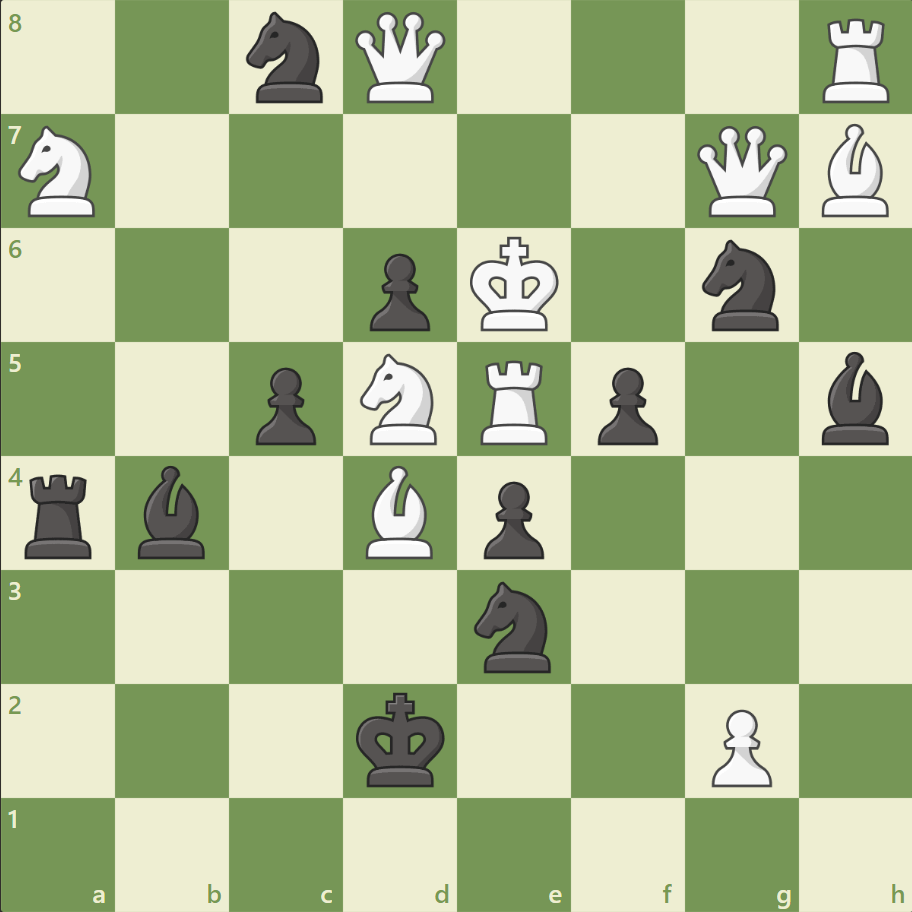B: (358, 460, 442, 563), (812, 120, 896, 222)
K: (465, 231, 565, 339)
N: (351, 348, 449, 450), (11, 121, 108, 223)
P: (701, 700, 776, 791)
Q: (691, 122, 790, 222), (351, 9, 450, 108)
R: (814, 12, 897, 109), (473, 352, 556, 449)
b: (131, 460, 215, 563), (812, 347, 896, 449)
k: (351, 685, 451, 793)
n: (238, 7, 335, 110), (692, 234, 789, 337), (465, 575, 562, 677)
p: (247, 359, 322, 450), (474, 473, 549, 564), (361, 246, 435, 337), (588, 359, 662, 450)
r: (19, 466, 102, 563)
